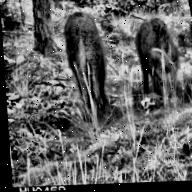boar: (119, 15, 192, 106), (55, 9, 116, 112)
